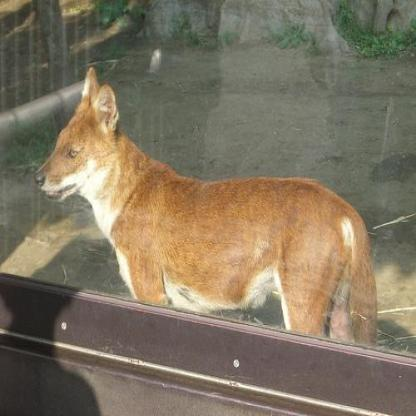dhole: (31, 61, 378, 347)
